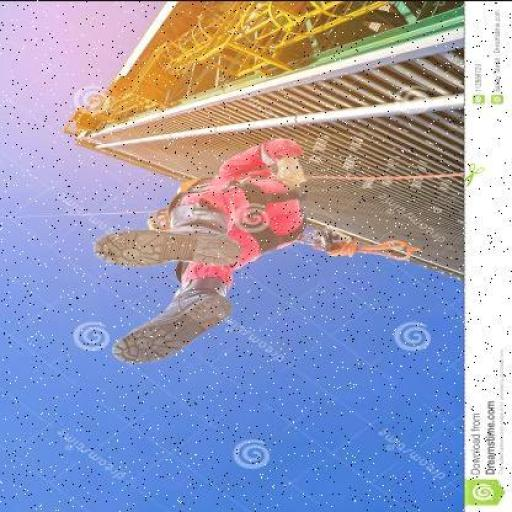safety_shoe: (108, 278, 228, 364), (89, 207, 248, 267)
